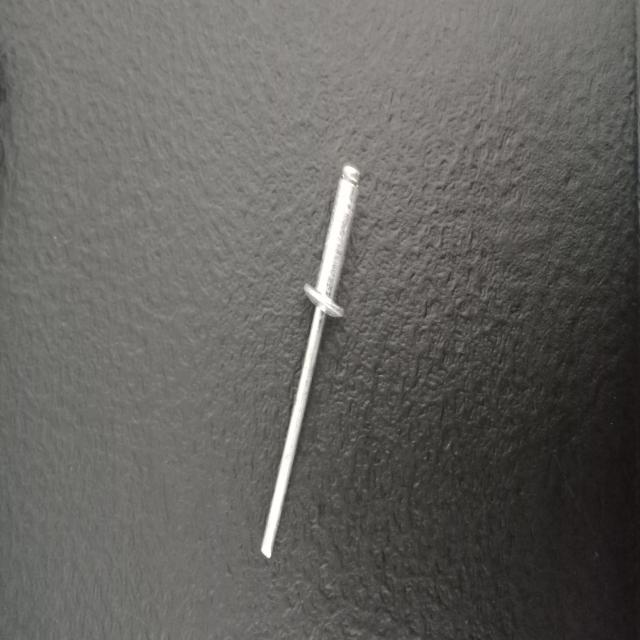rivet: (260, 161, 361, 560)
